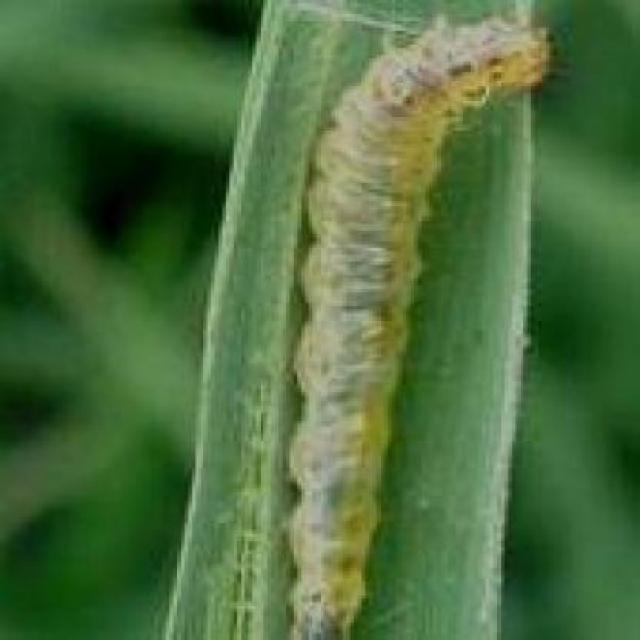leaf-folder: (232, 15, 571, 640)
